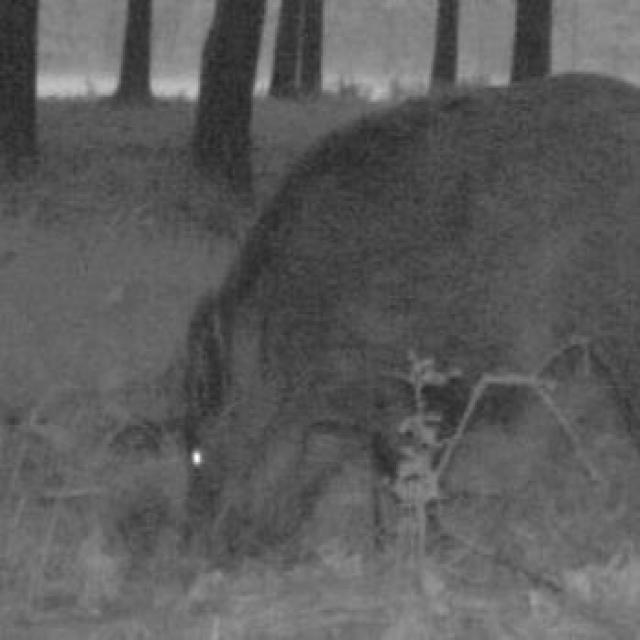pig: (132, 62, 640, 593)
